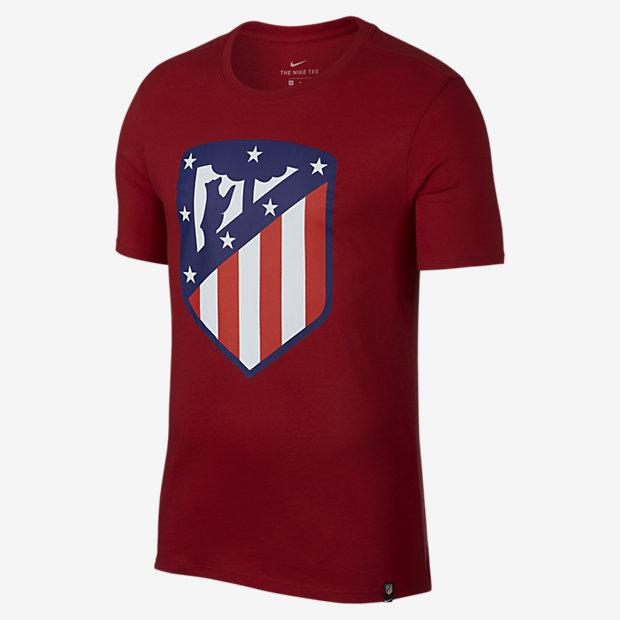teeshirt: (103, 10, 535, 620)
